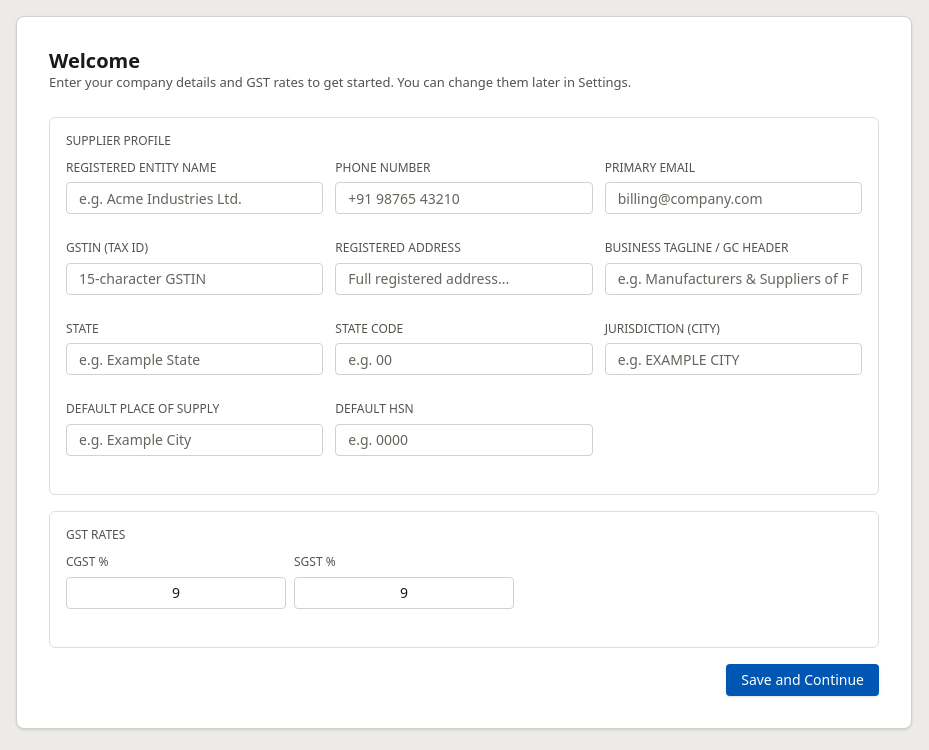
Test: onboarding (SPEC-15 PR 2, INV-78) › a refused write shows the server's message at the field it names
The image size is (929, 750).
Click the button "Save and Continue". click: (803, 680)
box: [726,664,879,696]
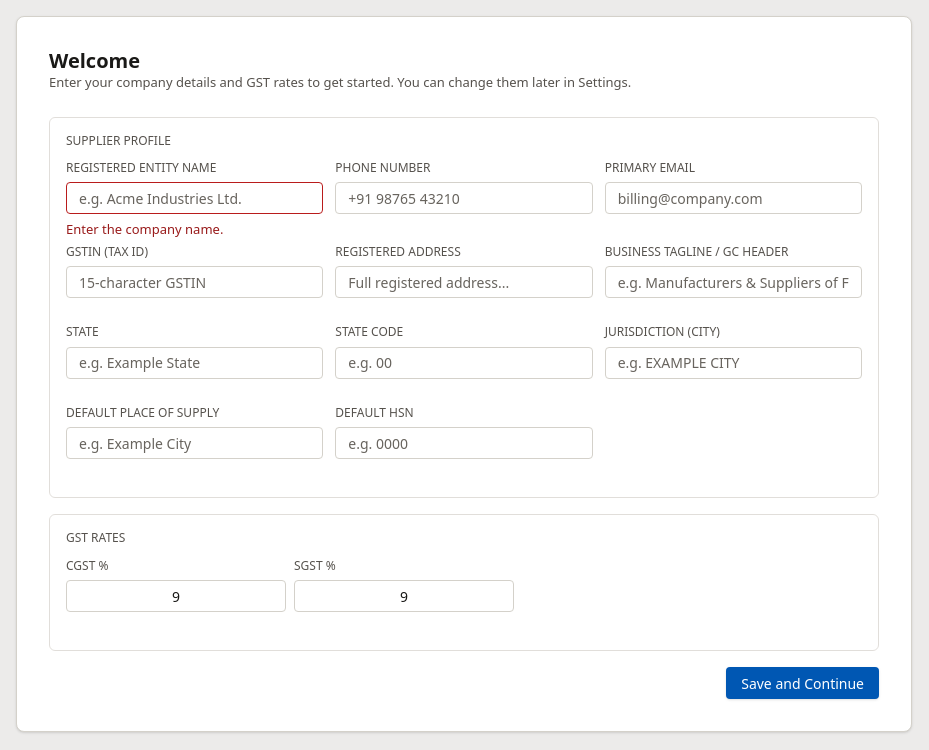
expect the text "Enter the company name." is shown: met, box [66,220,223,238]
